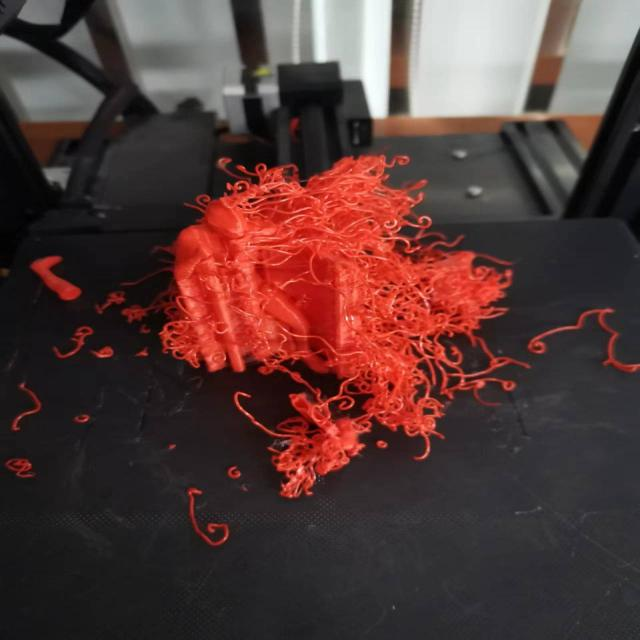spaghetti: (140, 158, 554, 442)
